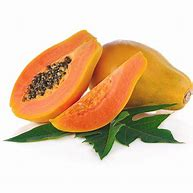papaya: (9, 30, 102, 122), (49, 52, 145, 132)
